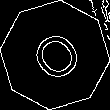O_SE: (22, 22, 88, 88)
